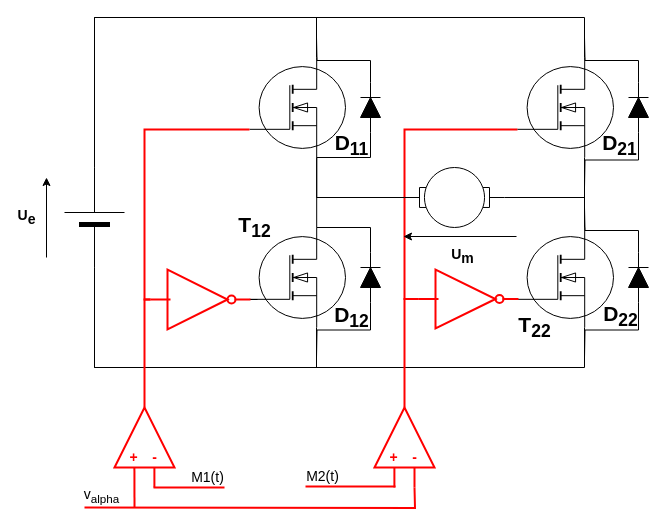
Some shapes in this 667 by 527 pixel diagram are drawn without their labels. Here are the shapes that lost their labels. From the top down, the centre of each, then its label:
At [297,107]: "T 11".
At [565,107]: "T 21".
